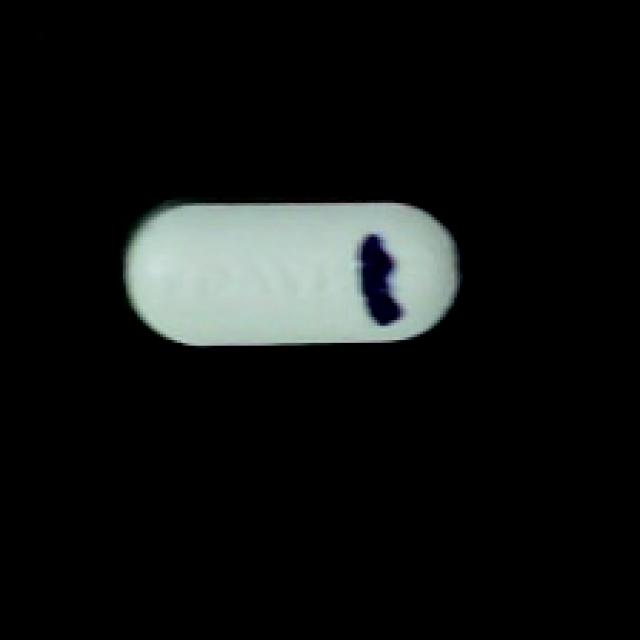defected: (117, 189, 474, 360)
